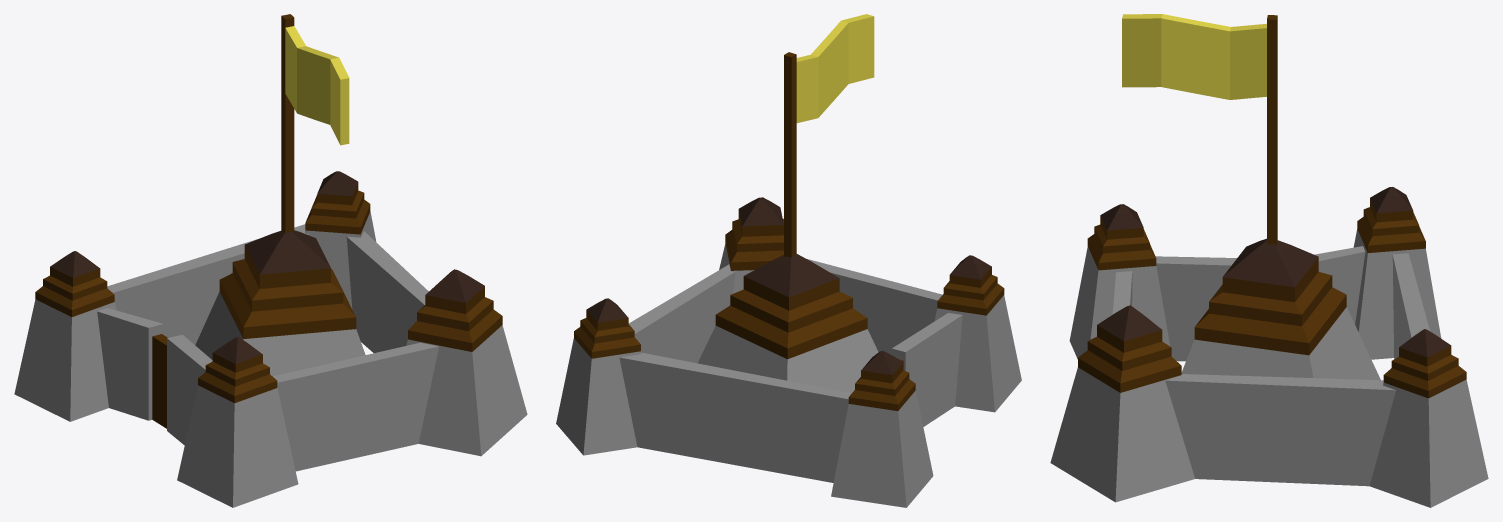
Rendered from SM_TileP3Castle.fbx.
The picture shows the model from 3 angles, left to right: view 1: azimuth 30°, elevation 25°; view 2: azimuth 150°, elevation 25°; view 3: azimuth 270°, elevation 25°; orthographic projection. The views are drawn at different scales.
Parts seen in each view (by area): view 1: TileP3Castle, TileP3CastleFlag; view 2: TileP3Castle, TileP3CastleFlag; view 3: TileP3Castle, TileP3CastleFlag.
Part boxes in pixels (<box>): TileP3Castle: <box>14,171,527,507</box>; TileP3CastleFlag: <box>281,14,349,232</box>; TileP3Castle: <box>556,197,1021,507</box>; TileP3CastleFlag: <box>784,14,874,257</box>; TileP3Castle: <box>1050,187,1488,507</box>; TileP3CastleFlag: <box>1122,14,1277,245</box>.
Bounding box in the file's own units: 373 × 364 × 361.
